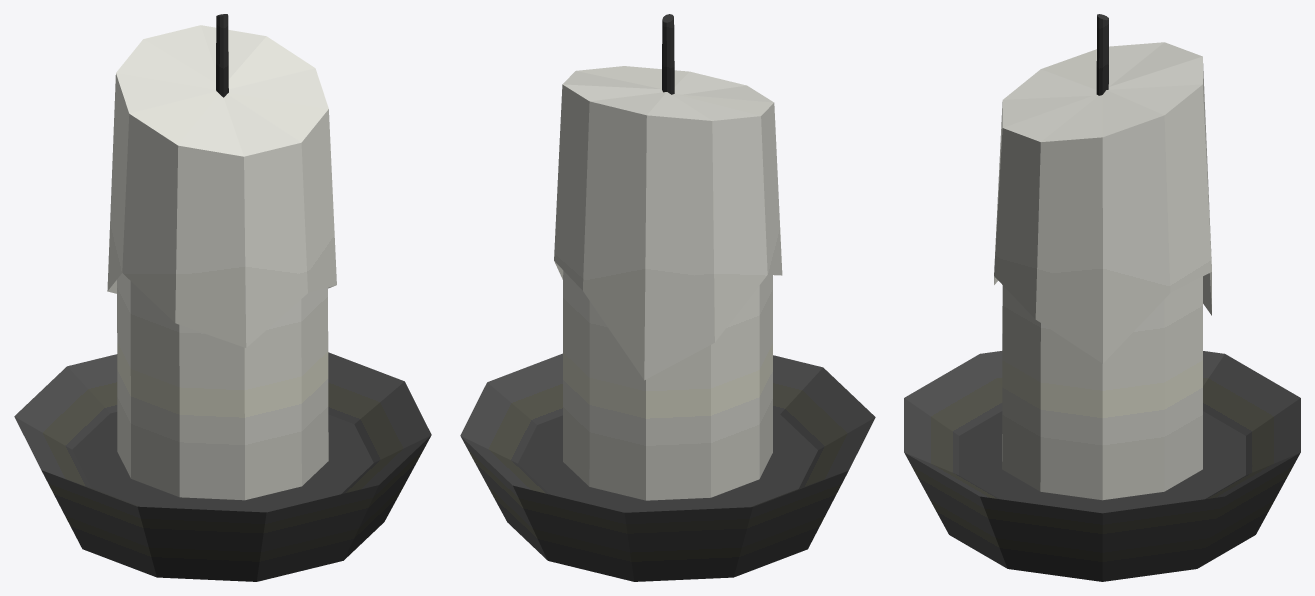
The model's file is SM_SmallCandle.fbx.
The picture shows the model from 3 angles, left to right: view 1: azimuth 30°, elevation 25°; view 2: azimuth 150°, elevation 25°; view 3: azimuth 270°, elevation 25°; orthographic projection.
Parts seen in each view (by area): view 1: smallCandle_GEO; view 2: smallCandle_GEO; view 3: smallCandle_GEO.
Part boxes in pixels (x1,y1,x2,y2): smallCandle_GEO: (14, 14, 431, 581); smallCandle_GEO: (460, 14, 875, 581); smallCandle_GEO: (904, 14, 1300, 581).
Bounding box in the file's own units: 11.44 × 15.1 × 10.88.
